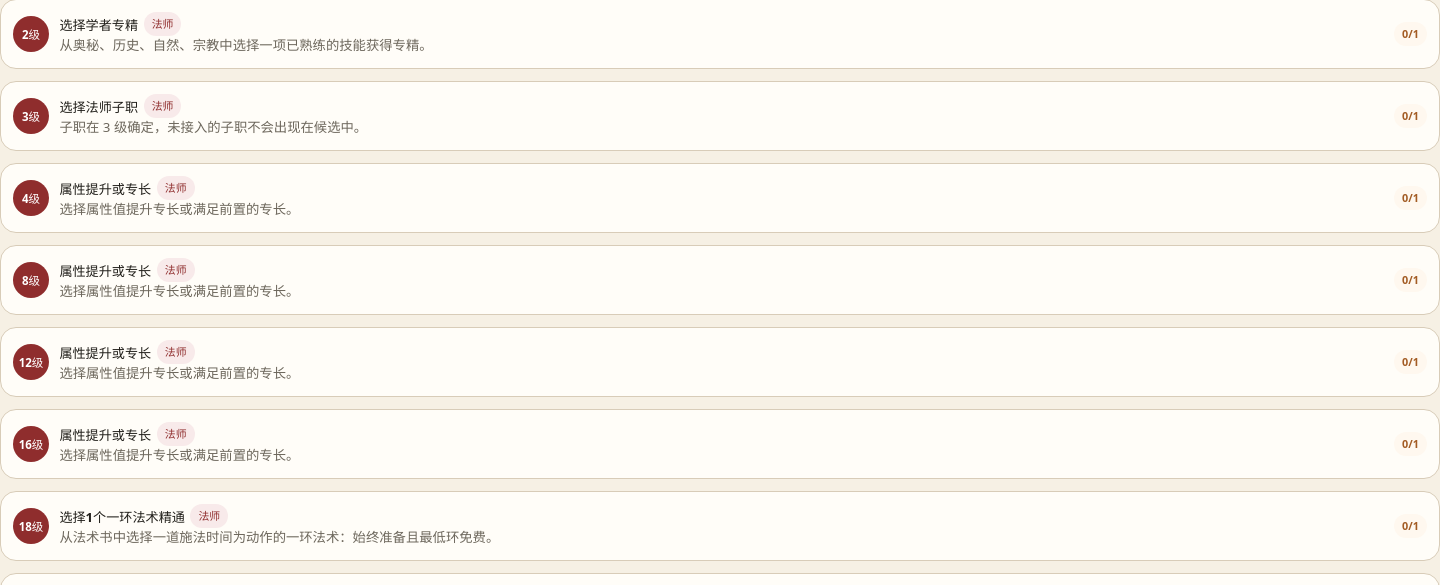
Test: TimelineStep 高等级法师法术书预留 › 首次创建 18 级法师时展示职业表候选和占用正常名额提示
(page scrolled)
Click the button with class "timeline-step__header" that starts with "18级" at (31, 526), box [13,504,1427,548]
(page scrolled)
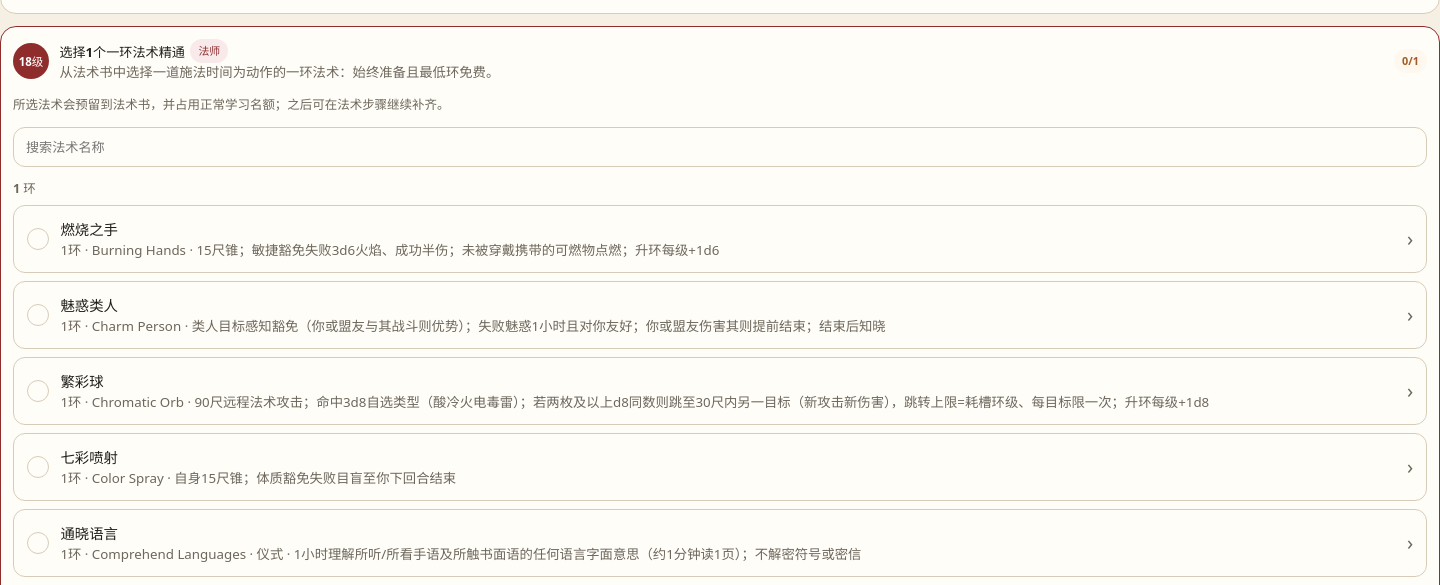
expect the text "所选法术会预留到法术书，并占用正常学习名额" is shown: met, box [13,96,449,113]
expect the button with class "option-card" that starts with "燃烧之手" is shown: met, box [13,205,1427,273]
